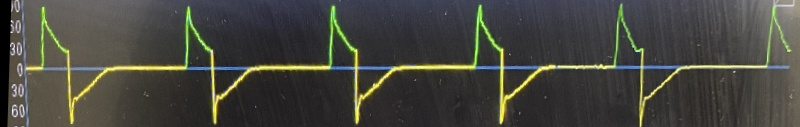normal_flow: (27, 0, 753, 127)
